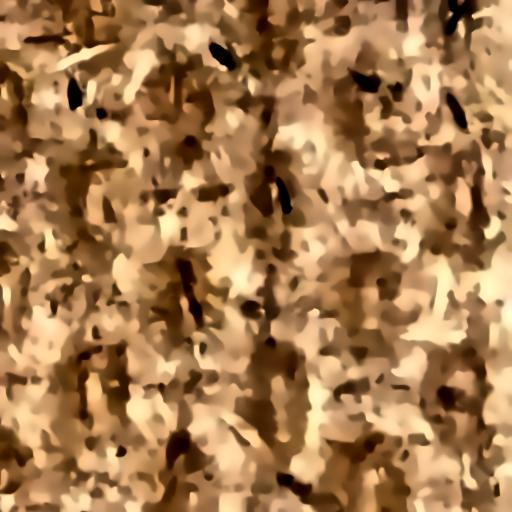egg: (426, 82, 480, 142), (262, 169, 308, 227), (329, 56, 385, 103), (198, 38, 246, 87), (435, 0, 480, 52), (55, 71, 87, 116)
